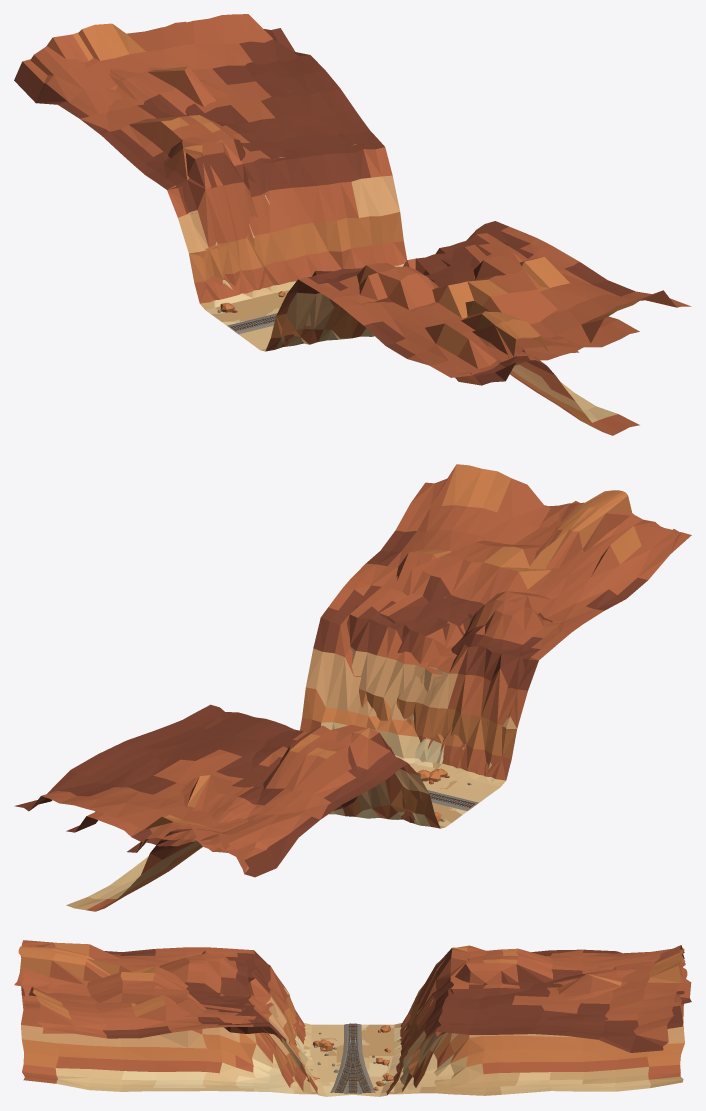
File: Joined_Chunck_CanyonDeep_Mid_A.fbx
3 views of the same model, one above another, from view 1: azimuth 30°, elevation 25°; view 2: azimuth 150°, elevation 25°; view 3: azimuth 270°, elevation 25° (orthographic). The views are drawn at different scales.
Parts seen in each view (by area): view 1: FG_Chunk_CanyonDeep_CurveR_A_SceneryNear, FG_Chunk_CanyonDeep_Mid_A_Ground, FG_Chunk_CanyonDeep_CurveL_A_Ground, FG_Chunk_CanyonDeep_Exit_A_Track; view 2: FG_Chunk_CanyonDeep_CurveR_A_SceneryNear, FG_Chunk_CanyonDeep_Mid_A_Ground, FG_Chunk_CanyonDeep_CurveL_A_Ground, FG_Chunk_CanyonDeep_Exit_A_Track; view 3: FG_Chunk_CanyonDeep_Exit_A_Track, FG_Chunk_CanyonDeep_CurveR_A_SceneryNear, FG_Chunk_CanyonDeep_Mid_A_Ground, FG_Chunk_CanyonDeep_CurveL_A_Ground.
Boxes of the visible parts, x1,y1,x2,y2 form: FG_Chunk_CanyonDeep_CurveR_A_SceneryNear: (78, 14, 578, 377); FG_Chunk_CanyonDeep_Mid_A_Ground: (30, 21, 639, 377); FG_Chunk_CanyonDeep_CurveL_A_Ground: (14, 59, 691, 385); FG_Chunk_CanyonDeep_Exit_A_Track: (31, 32, 639, 435); FG_Chunk_CanyonDeep_CurveR_A_SceneryNear: (14, 490, 683, 868); FG_Chunk_CanyonDeep_Mid_A_Ground: (66, 502, 689, 877); FG_Chunk_CanyonDeep_CurveL_A_Ground: (127, 464, 691, 877); FG_Chunk_CanyonDeep_Exit_A_Track: (66, 526, 671, 911); FG_Chunk_CanyonDeep_Exit_A_Track: (21, 945, 685, 1095); FG_Chunk_CanyonDeep_CurveR_A_SceneryNear: (14, 941, 684, 1096); FG_Chunk_CanyonDeep_Mid_A_Ground: (21, 941, 684, 1094); FG_Chunk_CanyonDeep_CurveL_A_Ground: (22, 940, 691, 1096).
Size of the model in its own units: 6706 by 3513 by 20566.
